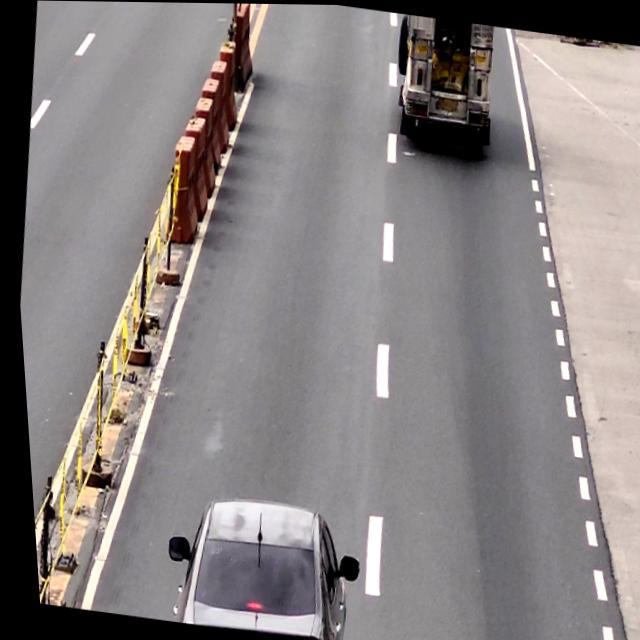Car: (148, 486, 362, 640)
Jeep: (382, 11, 502, 160)
